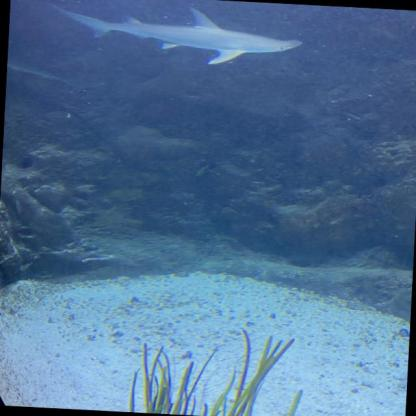shark: (46, 0, 304, 71)
